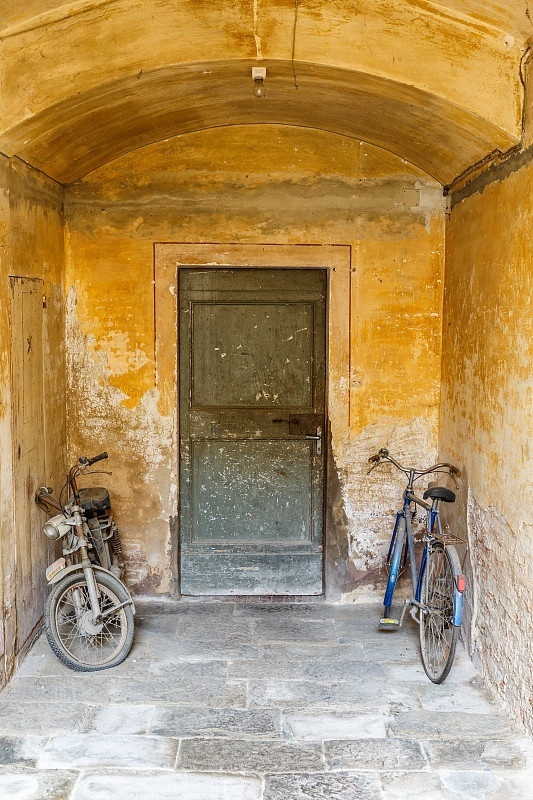non-vehicle: (33, 442, 139, 673), (376, 459, 470, 668)
